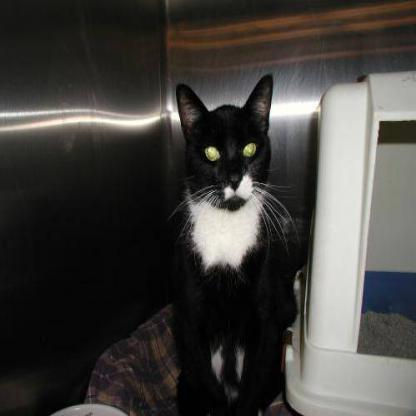cat: (148, 53, 326, 374)
